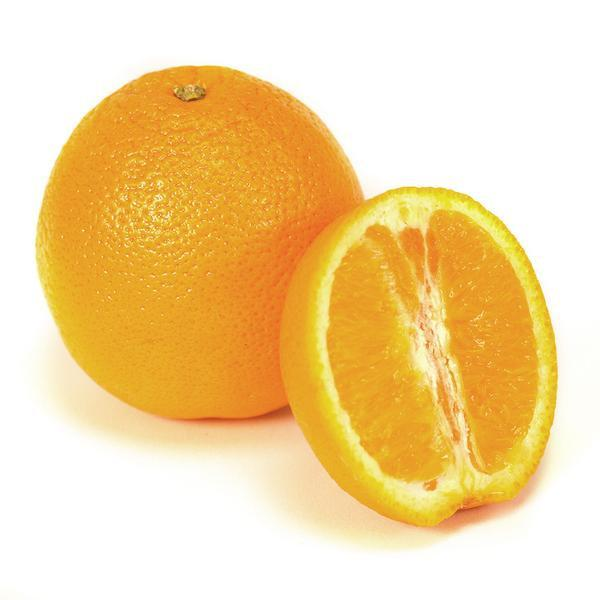orange: (34, 58, 376, 428), (289, 188, 587, 530)
